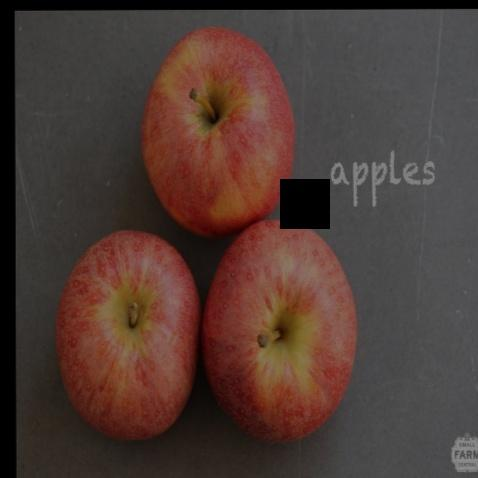red apple: (198, 213, 354, 446), (138, 24, 301, 236), (53, 231, 199, 443)
